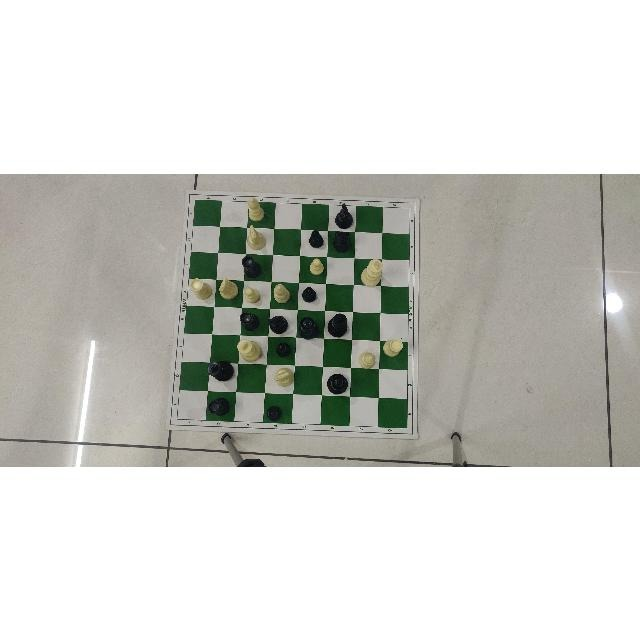black-king: (206, 358, 234, 381), (326, 311, 348, 337)
black-knight: (334, 201, 353, 229), (332, 230, 352, 253), (268, 314, 288, 334)
black-pawn: (308, 228, 324, 248), (301, 285, 317, 303), (266, 403, 282, 420), (276, 340, 292, 357)
black-queen: (297, 314, 320, 339), (328, 370, 348, 395)
black-rook: (207, 395, 231, 418), (241, 255, 262, 279), (239, 310, 261, 332)
white-bishop: (247, 196, 265, 222), (273, 281, 291, 304), (357, 350, 376, 369)
white-king: (361, 257, 383, 287), (236, 337, 262, 362)
white-knight: (218, 276, 239, 300), (248, 223, 266, 250), (274, 367, 294, 387)
white-pawn: (309, 256, 325, 275), (244, 285, 261, 302)
white-rook: (189, 275, 213, 300), (383, 337, 403, 357)
